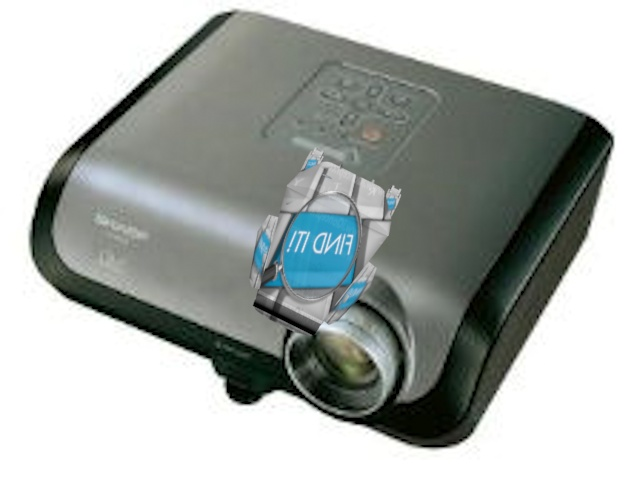back_pack: (241, 145, 408, 344)
